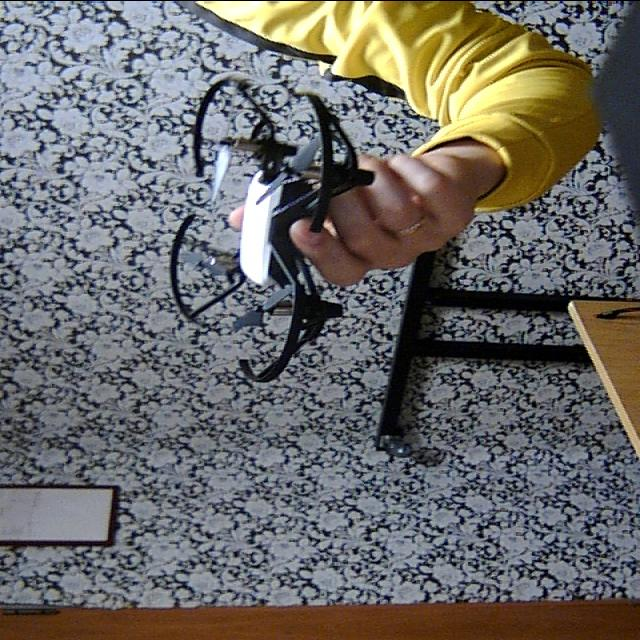drone: (146, 66, 382, 384)
